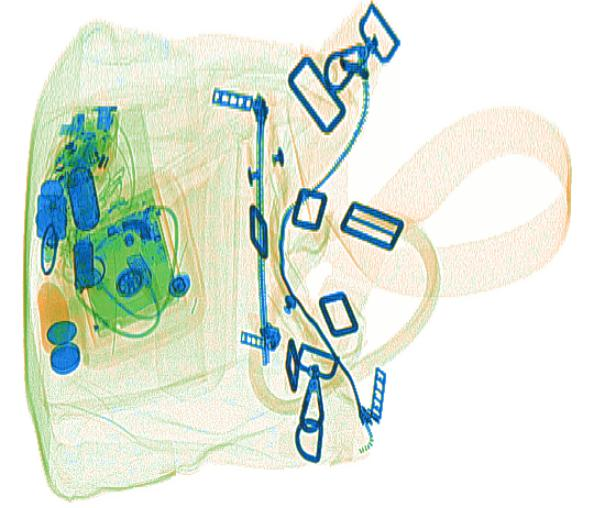USBFlashDisk: (74, 230, 99, 296)
